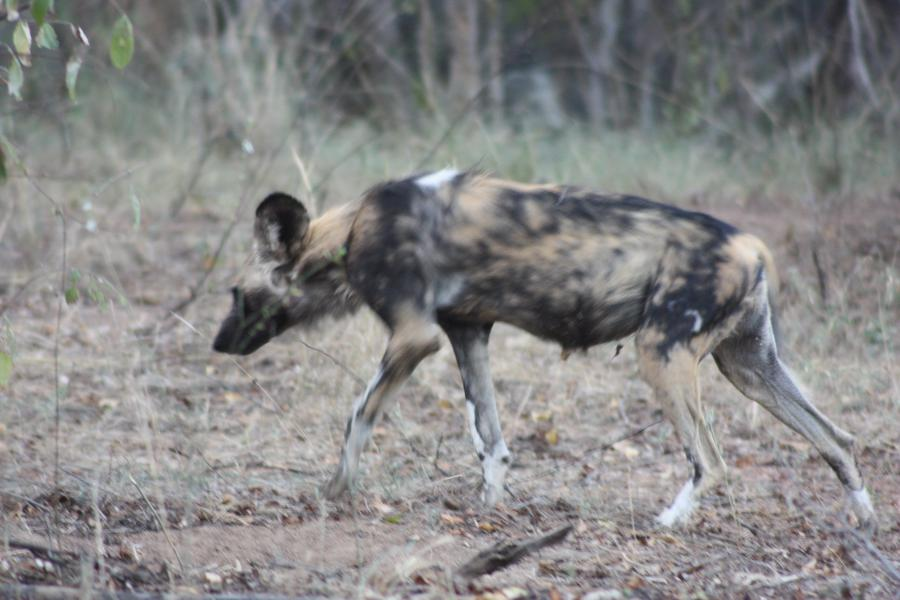wilddog: (251, 192, 667, 382)
